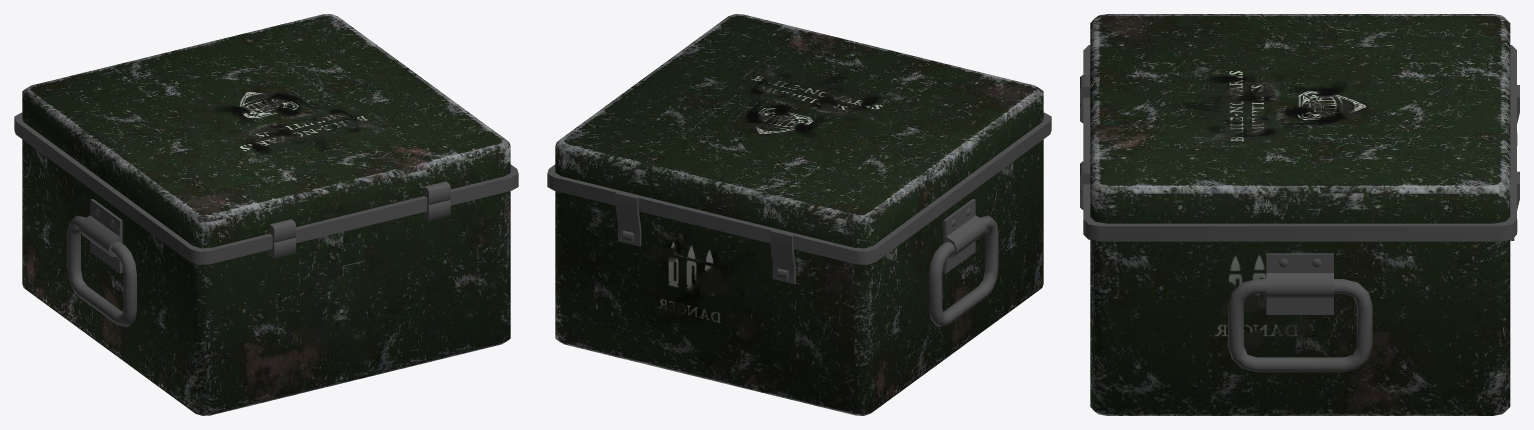
Rendered from ammo_box_compressed.glb.
3 views of the same model, side by side, from view 1: azimuth 30°, elevation 25°; view 2: azimuth 150°, elevation 25°; view 3: azimuth 270°, elevation 25° (orthographic). The views are drawn at different scales.
Visible parts, largest first — view 1: Object_2; view 2: Object_2; view 3: Object_2.
Boxes of the visible parts, bbox=[...] form: Object_2: bbox=[14, 14, 518, 415]; Object_2: bbox=[547, 14, 1051, 415]; Object_2: bbox=[1080, 14, 1519, 415].
Bounding box in the file's own units: 0.5445 × 0.3 × 0.5235.
1 material, 1 textured.
